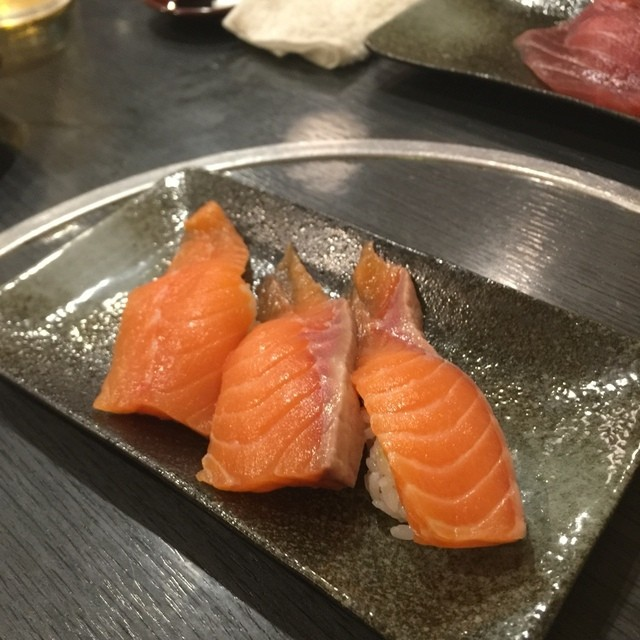salmon: (354, 241, 529, 547), (206, 236, 364, 496)
